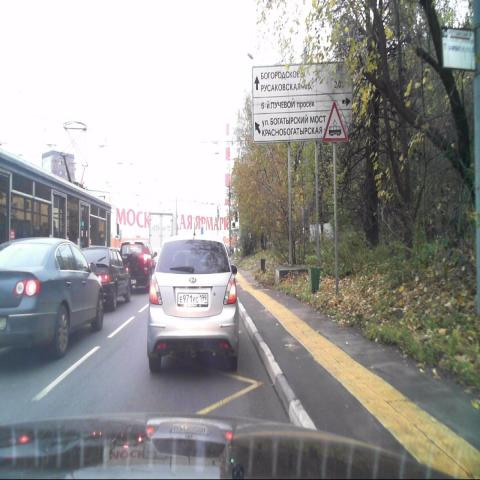1_5: (323, 102, 346, 141)
